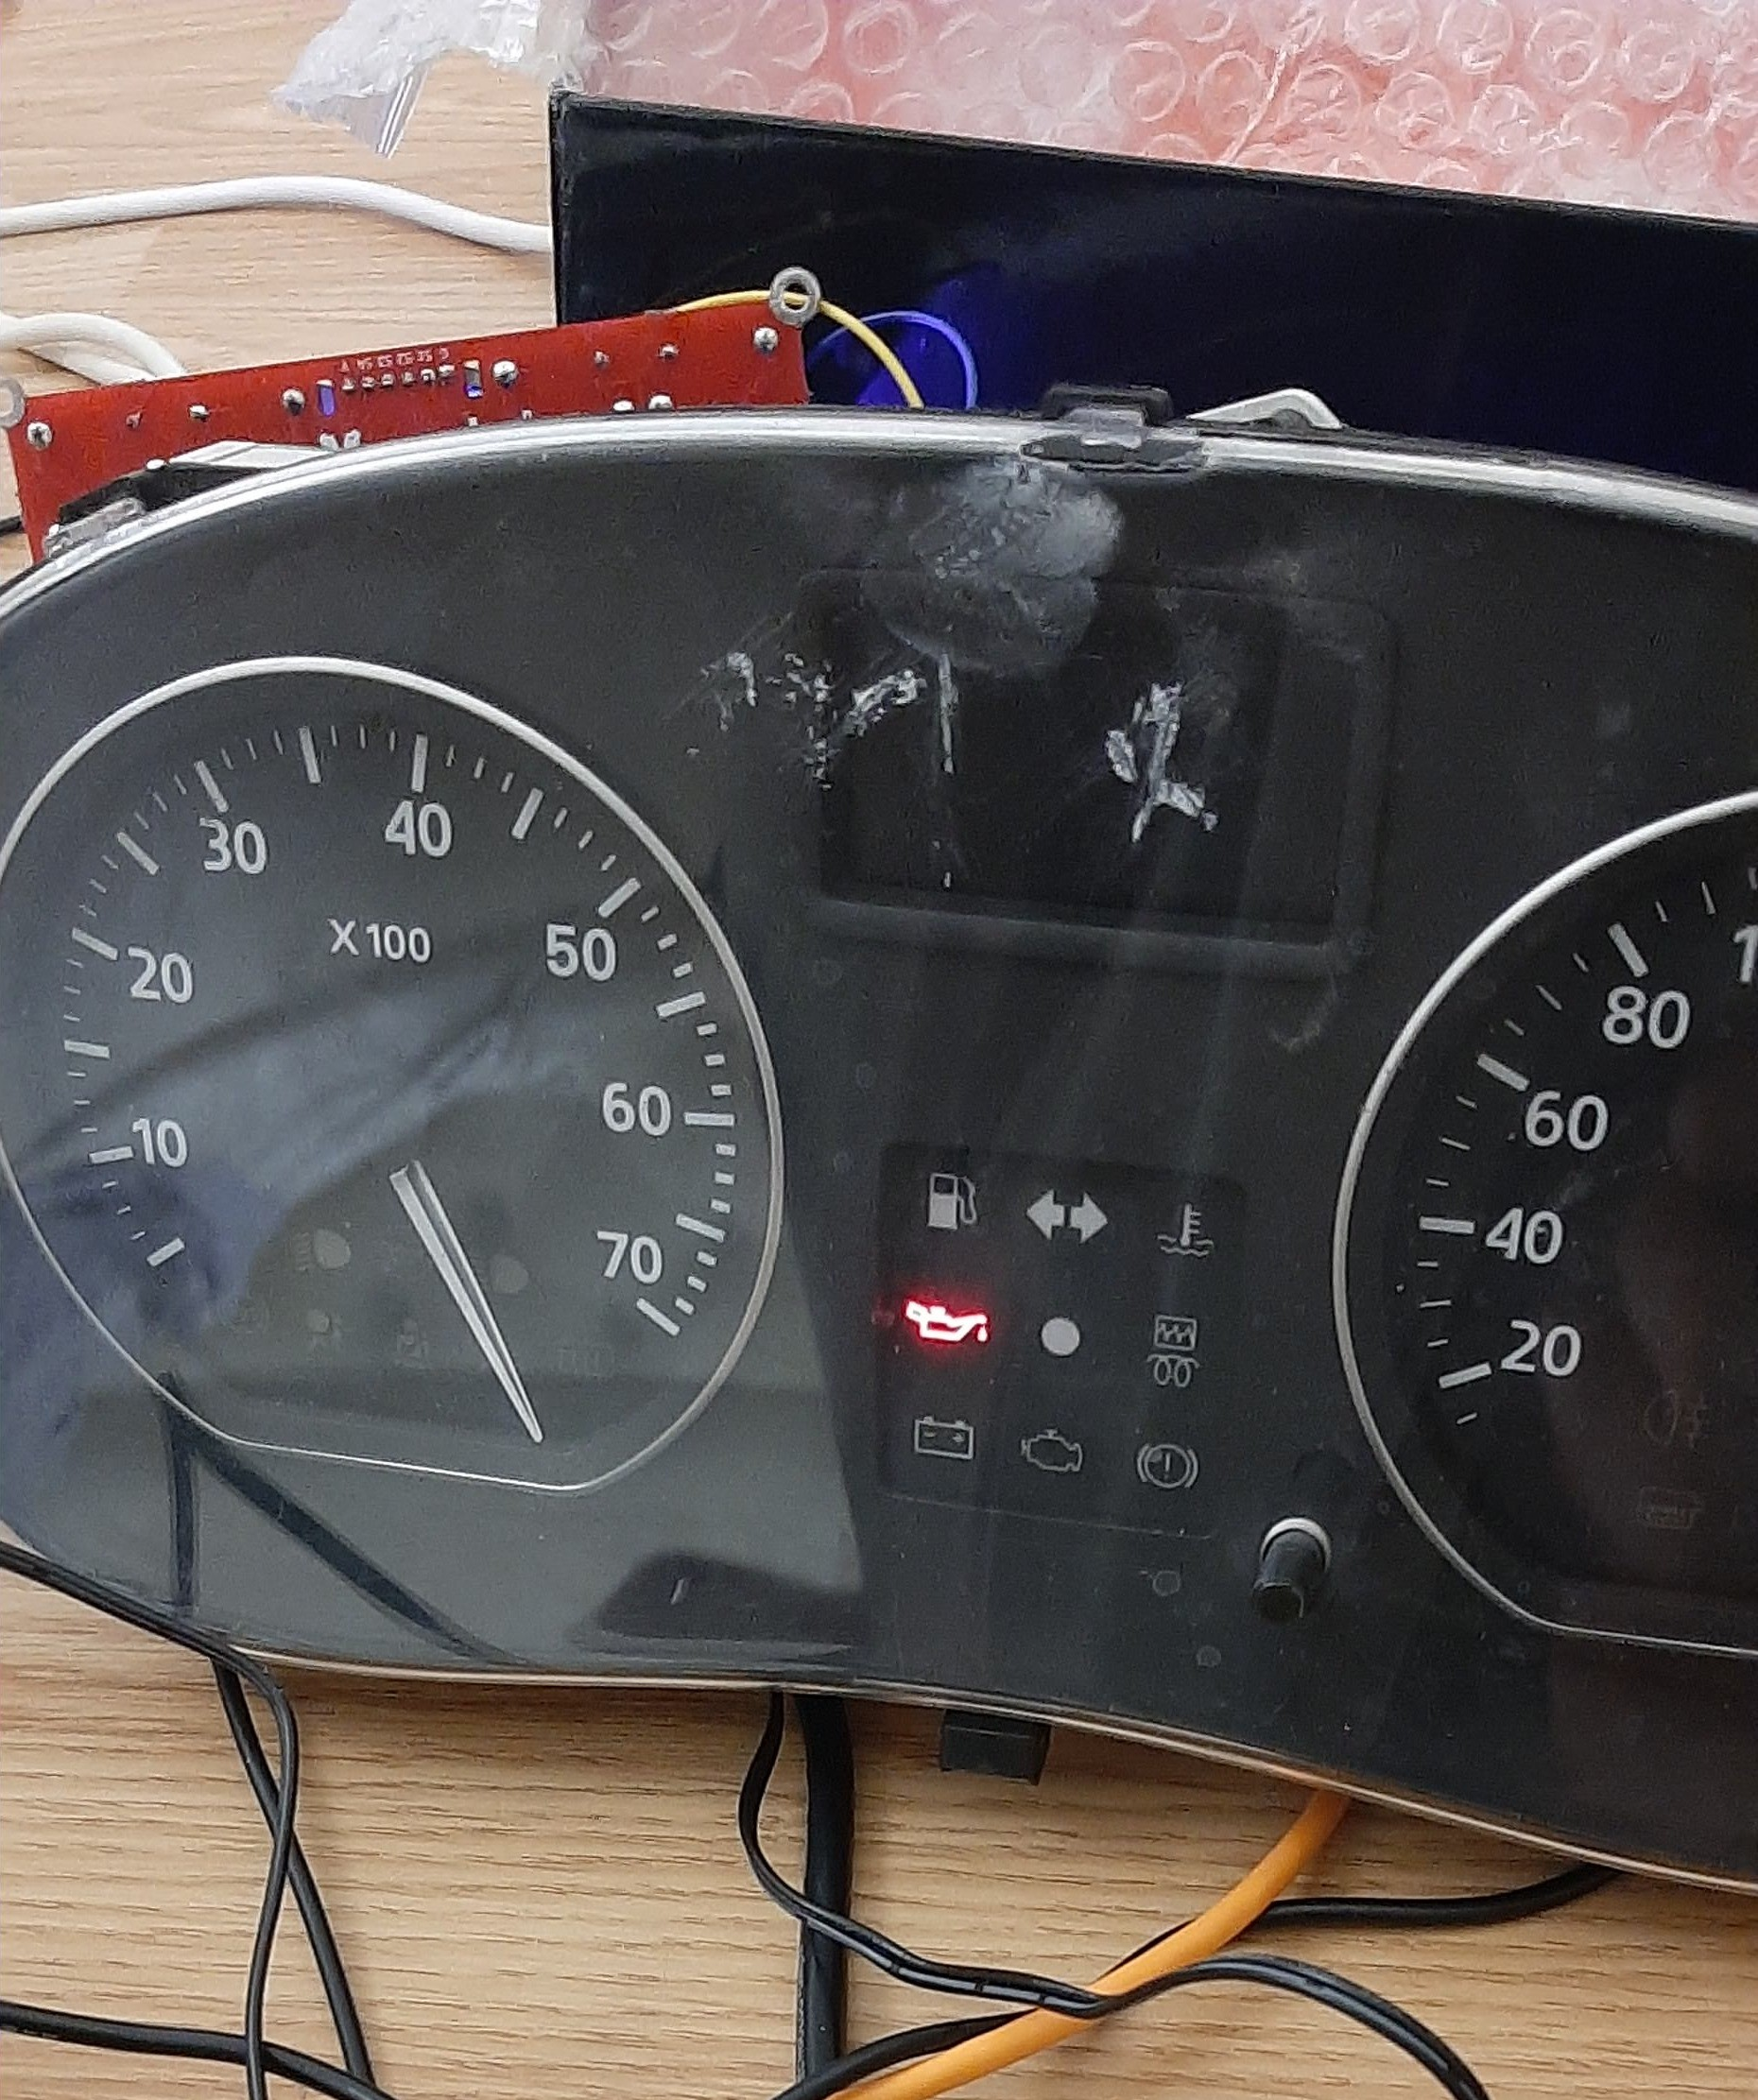oil24: (902, 1294, 994, 1347)
